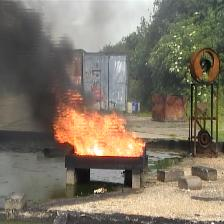fire: (53, 86, 146, 157)
